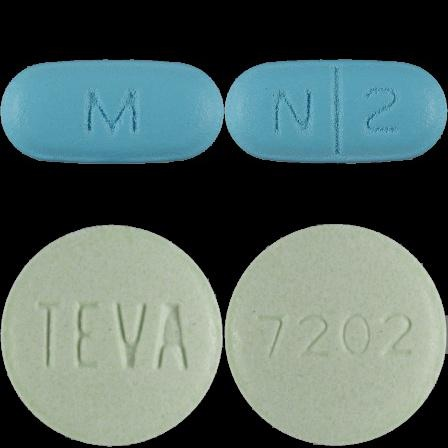51079-774: (0, 0, 224, 224)
